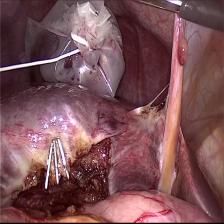Specimen Bag: (23, 0, 127, 101)
